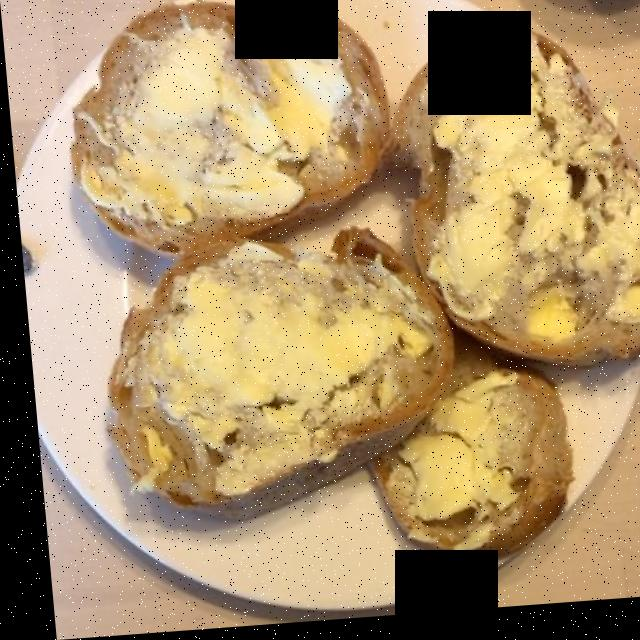bread-white: (70, 0, 640, 561)
butter: (117, 40, 628, 545)
